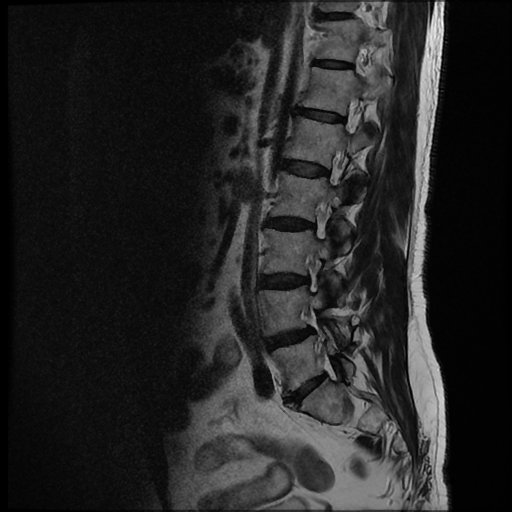RFS0: (302, 193, 339, 248), (292, 249, 334, 296), (315, 142, 354, 190)
